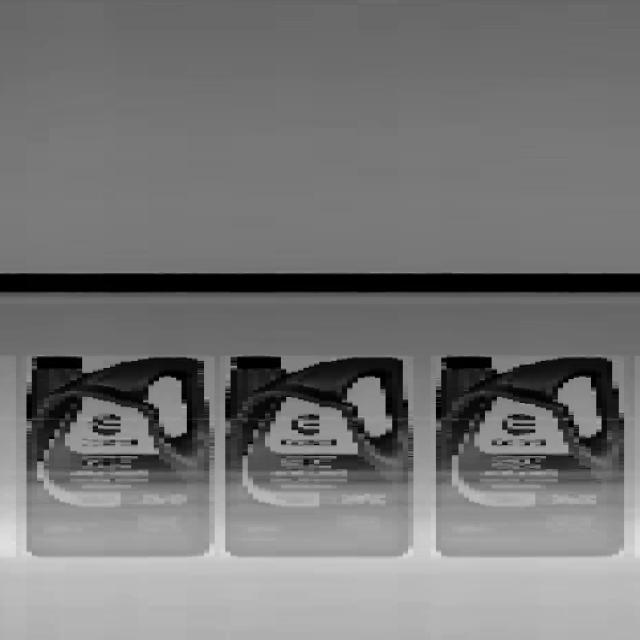motor_oil: (438, 352, 630, 566), (24, 352, 214, 564), (222, 352, 411, 558)
